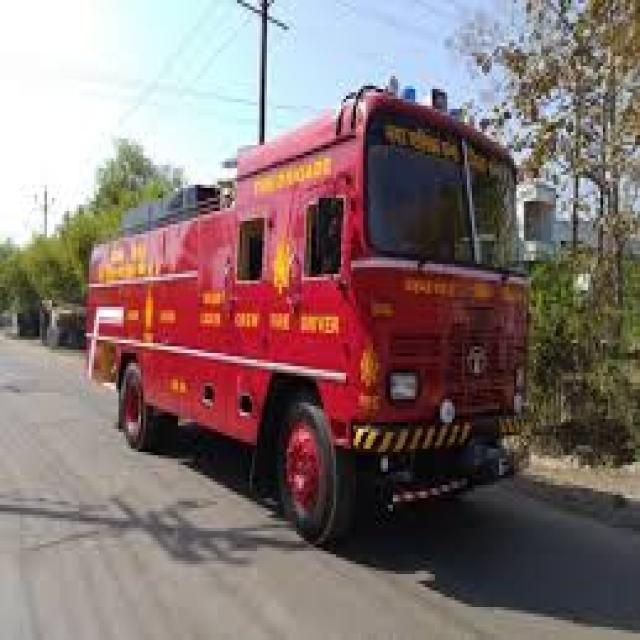Fire_brigade: (74, 66, 551, 590)
